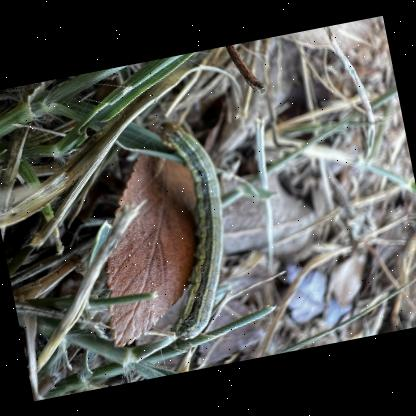Fall Armyworm Larvae: (129, 110, 252, 347)
